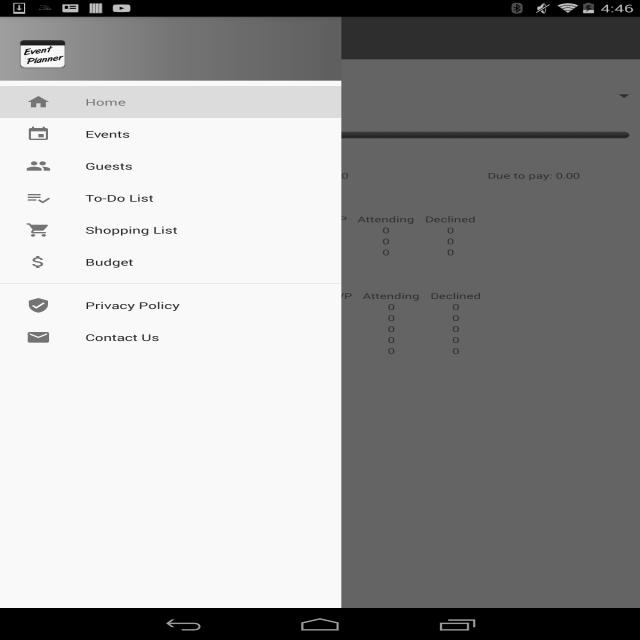CheckedTextView: (26, 86, 316, 118), (26, 118, 316, 150), (26, 150, 316, 182), (26, 182, 316, 214), (26, 214, 316, 246), (26, 246, 316, 278), (26, 290, 316, 322), (26, 322, 316, 354)
ImageButton: (9, 17, 68, 59)
ImageView: (17, 27, 68, 70)
ProgressBar: (46, 132, 629, 138)
Spinner: (58, 88, 635, 105), (32, 188, 146, 204), (54, 264, 154, 280)
TextView: (58, 89, 618, 103), (213, 170, 427, 181), (426, 170, 640, 181), (0, 170, 213, 181), (85, 29, 174, 47), (0, 107, 122, 120), (32, 188, 98, 203), (54, 265, 118, 279), (5, 87, 53, 104), (352, 224, 420, 236), (352, 246, 420, 258), (357, 312, 425, 324), (357, 334, 425, 346), (352, 236, 420, 247), (158, 290, 220, 302), (158, 312, 220, 324), (158, 334, 220, 346), (420, 224, 481, 236), (420, 246, 481, 258), (425, 312, 486, 324), (425, 334, 486, 346), (362, 290, 420, 302), (357, 302, 425, 312), (357, 324, 425, 334), (357, 346, 425, 356), (420, 236, 481, 247), (0, 268, 54, 280), (0, 147, 53, 159), (158, 302, 220, 312), (158, 324, 220, 334), (158, 346, 220, 356), (358, 213, 414, 224), (430, 290, 481, 302), (425, 302, 486, 312), (425, 324, 486, 334), (425, 346, 486, 356), (164, 224, 214, 236), (258, 224, 308, 236), (164, 246, 214, 258), (258, 246, 308, 258), (264, 312, 314, 324), (264, 334, 314, 346), (425, 213, 476, 224), (164, 213, 214, 224), (164, 236, 214, 247), (258, 236, 308, 247), (309, 224, 352, 236), (309, 246, 352, 258), (314, 312, 357, 324), (314, 334, 357, 346), (264, 302, 314, 312), (264, 324, 314, 334), (264, 346, 314, 356), (219, 224, 259, 236), (219, 246, 259, 258), (269, 290, 309, 302), (309, 236, 352, 247), (225, 312, 264, 324), (225, 334, 264, 346), (219, 236, 259, 247), (314, 302, 357, 312), (314, 324, 357, 334), (314, 346, 357, 356), (264, 213, 303, 224), (319, 290, 352, 302), (225, 302, 264, 312), (225, 324, 264, 334), (225, 346, 264, 356), (0, 191, 31, 203), (314, 213, 347, 224), (230, 290, 259, 302), (224, 213, 253, 224), (6, 130, 24, 140)
